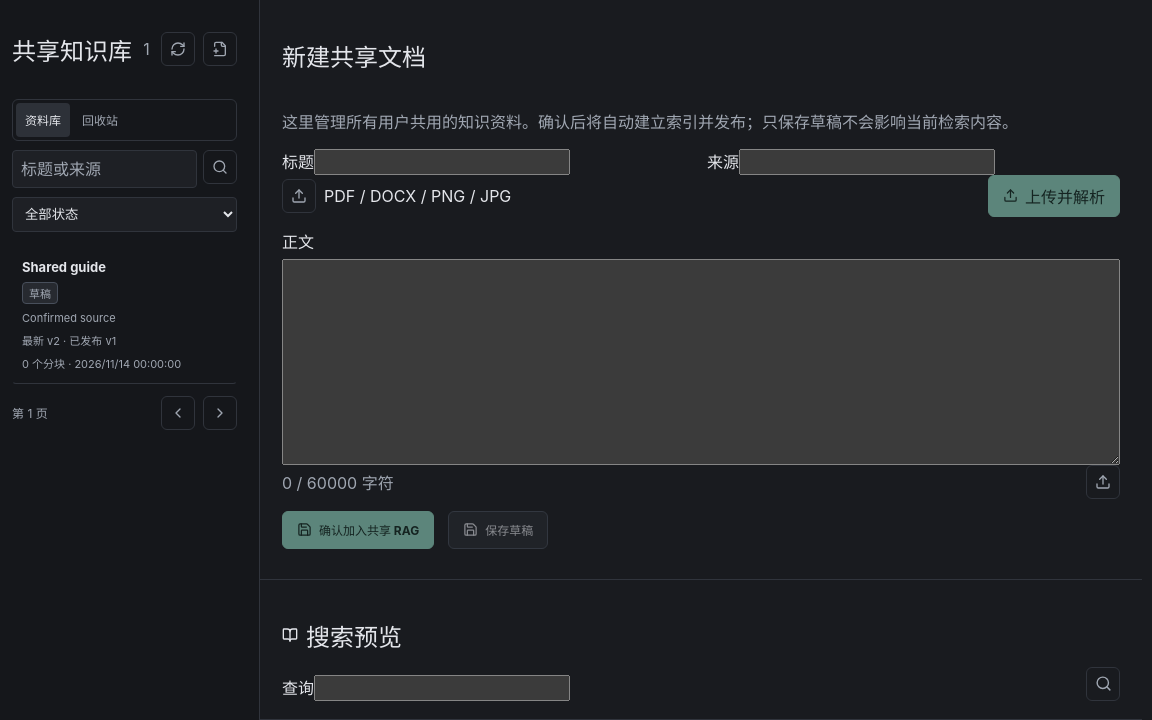
Scenario: confirmed shared RAG updates › keeps unknown results blocked and retries only the exact original request on explicit action
The width and height of the screenshot is (1152, 720).
Expected: the field labelled "标题" is shown, 314,149 -> 570,175
Click the button "Shared guide" at (124, 315), box 12,246 -> 237,384
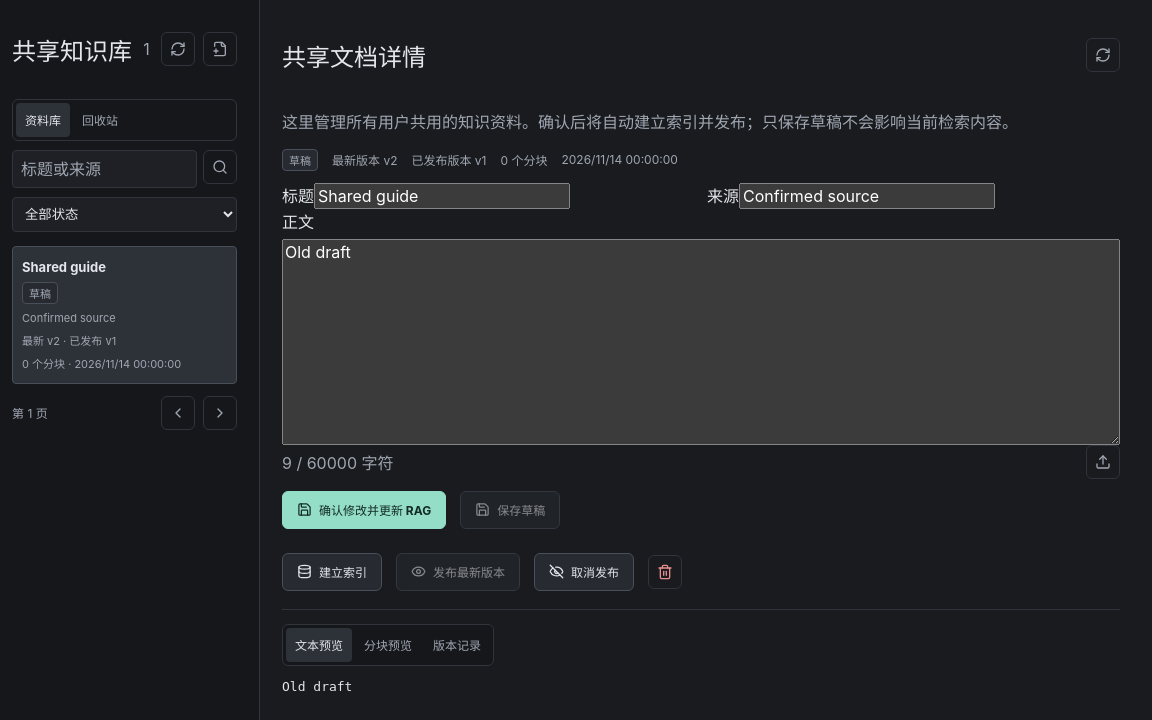
Expected: the field labelled "标题" holds "Shared guide", 314,183 -> 570,209
Replace the text in the text box labelled "正文" with "Keep this exact draft" at (701, 342), box 282,239 -> 1120,445
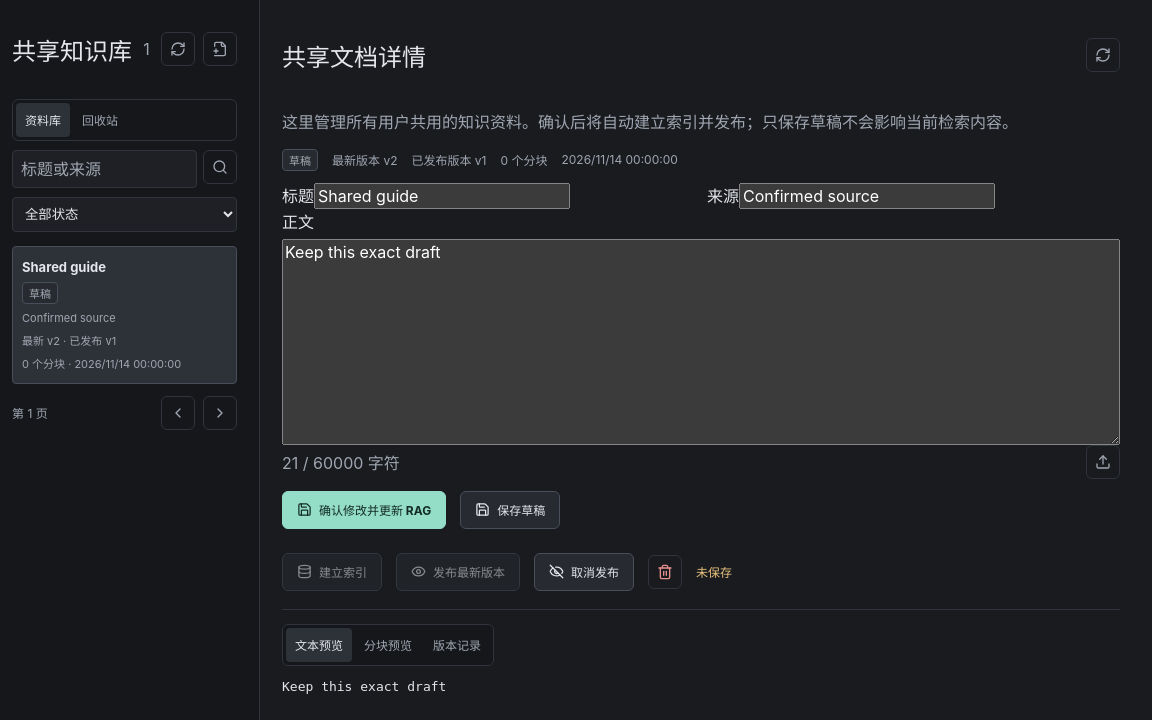
Click the button "确认修改并更新 RAG" at (364, 510), box 282,491 -> 446,529
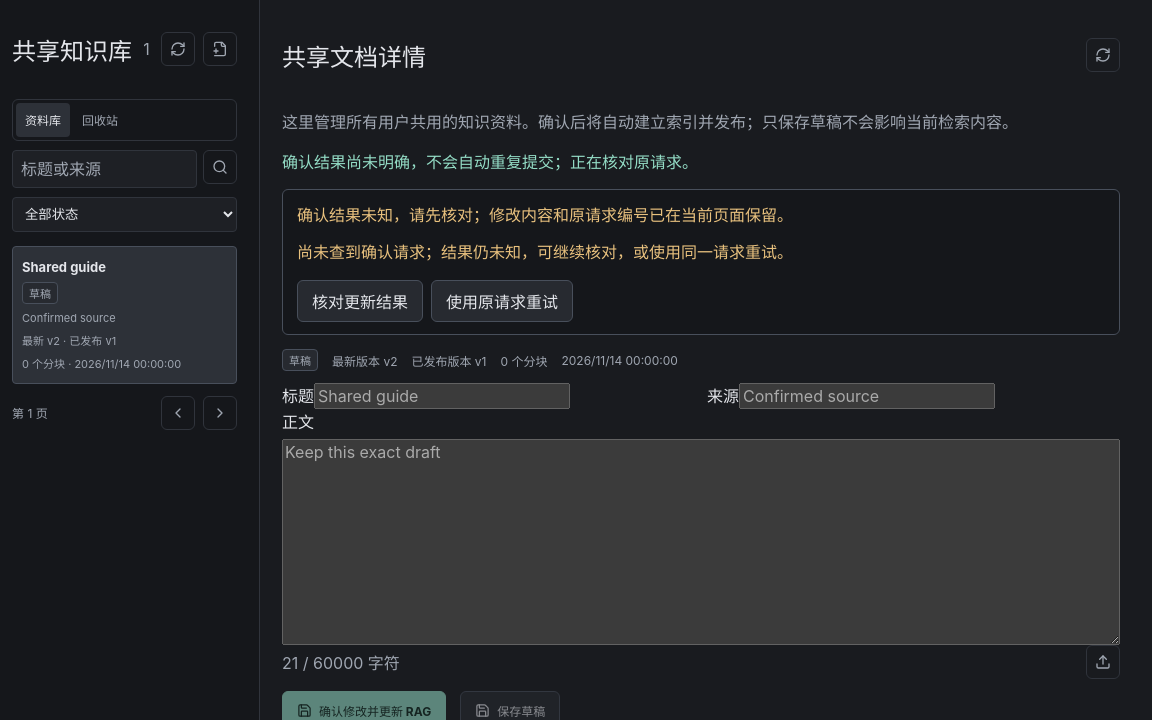
Expected: the text box labelled "正文" is disabled, 282,439 -> 1120,645
Expected: the text "尚未查到确认请求；结果仍未知，可继续核对，或使用同一请求重试。" is shown, 297,242 -> 793,262
Click the button named "新建文档" at (220, 49), box 203,32 -> 237,66
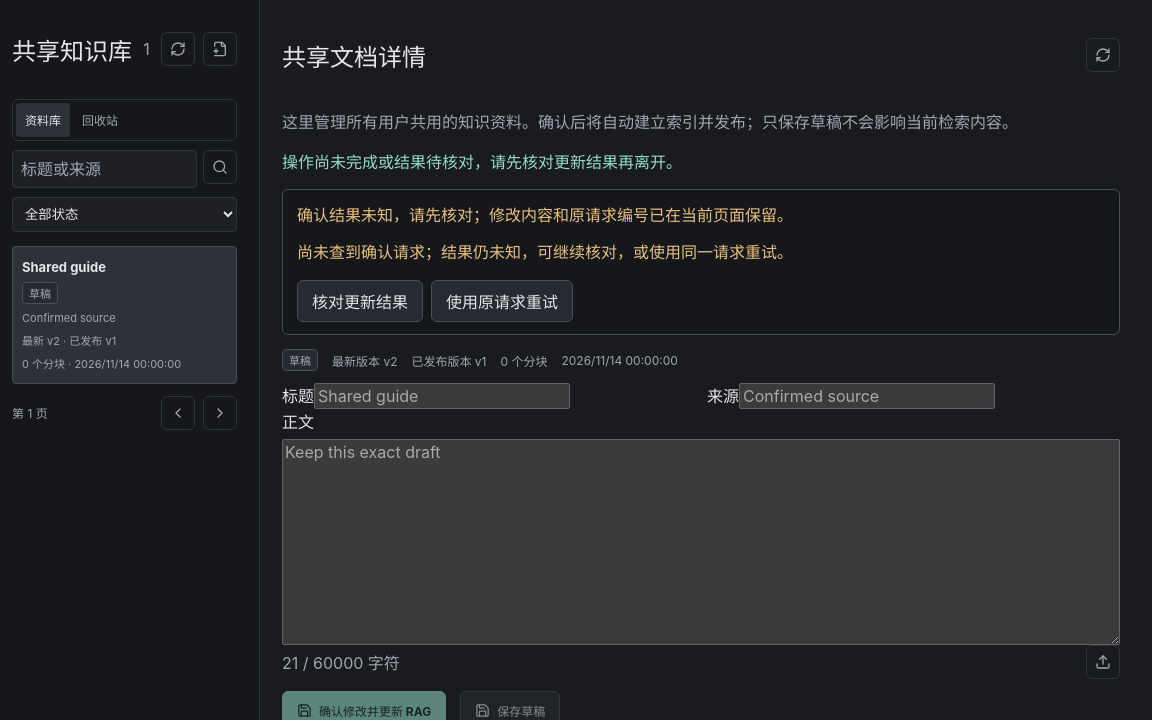
Click the button "使用原请求重试" at (502, 301), box 431,280 -> 573,322
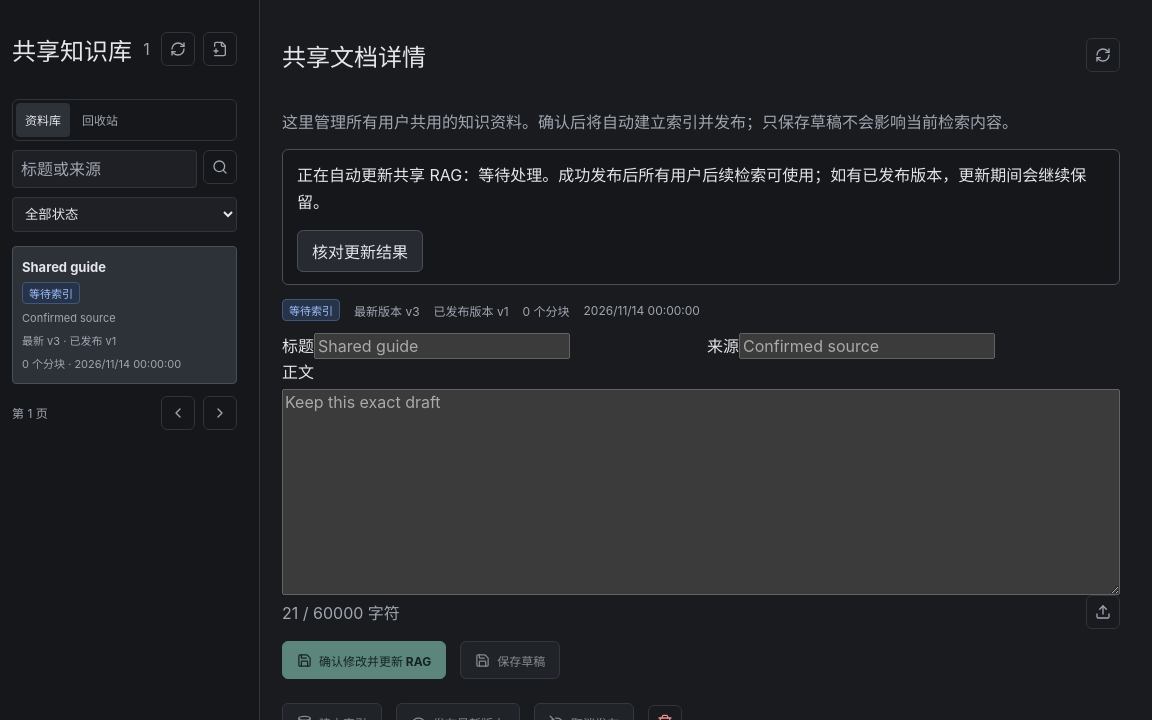
Expected: the text "正在自动更新共享 RAG：等待处理。成功发布后所有用户后续检索可使用；如有已发布版本，更新期间会继续保留。" is shown, 297,162 -> 1105,216
